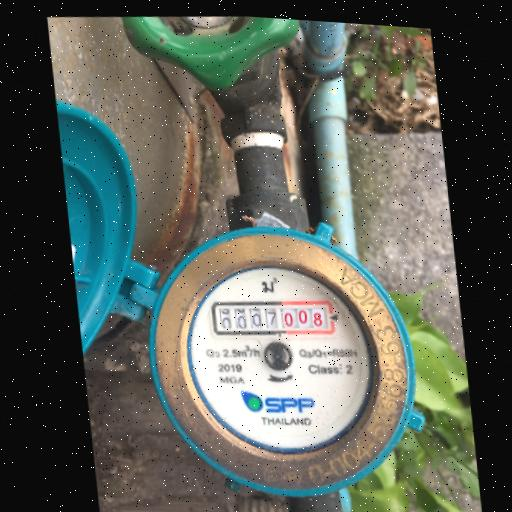0: (249, 308, 262, 330), (282, 308, 295, 330), (219, 309, 232, 330), (236, 309, 248, 330), (297, 309, 309, 329)
7: (265, 308, 277, 330)
8: (311, 309, 325, 329)
border_water_meter_number: (210, 293, 336, 343)
